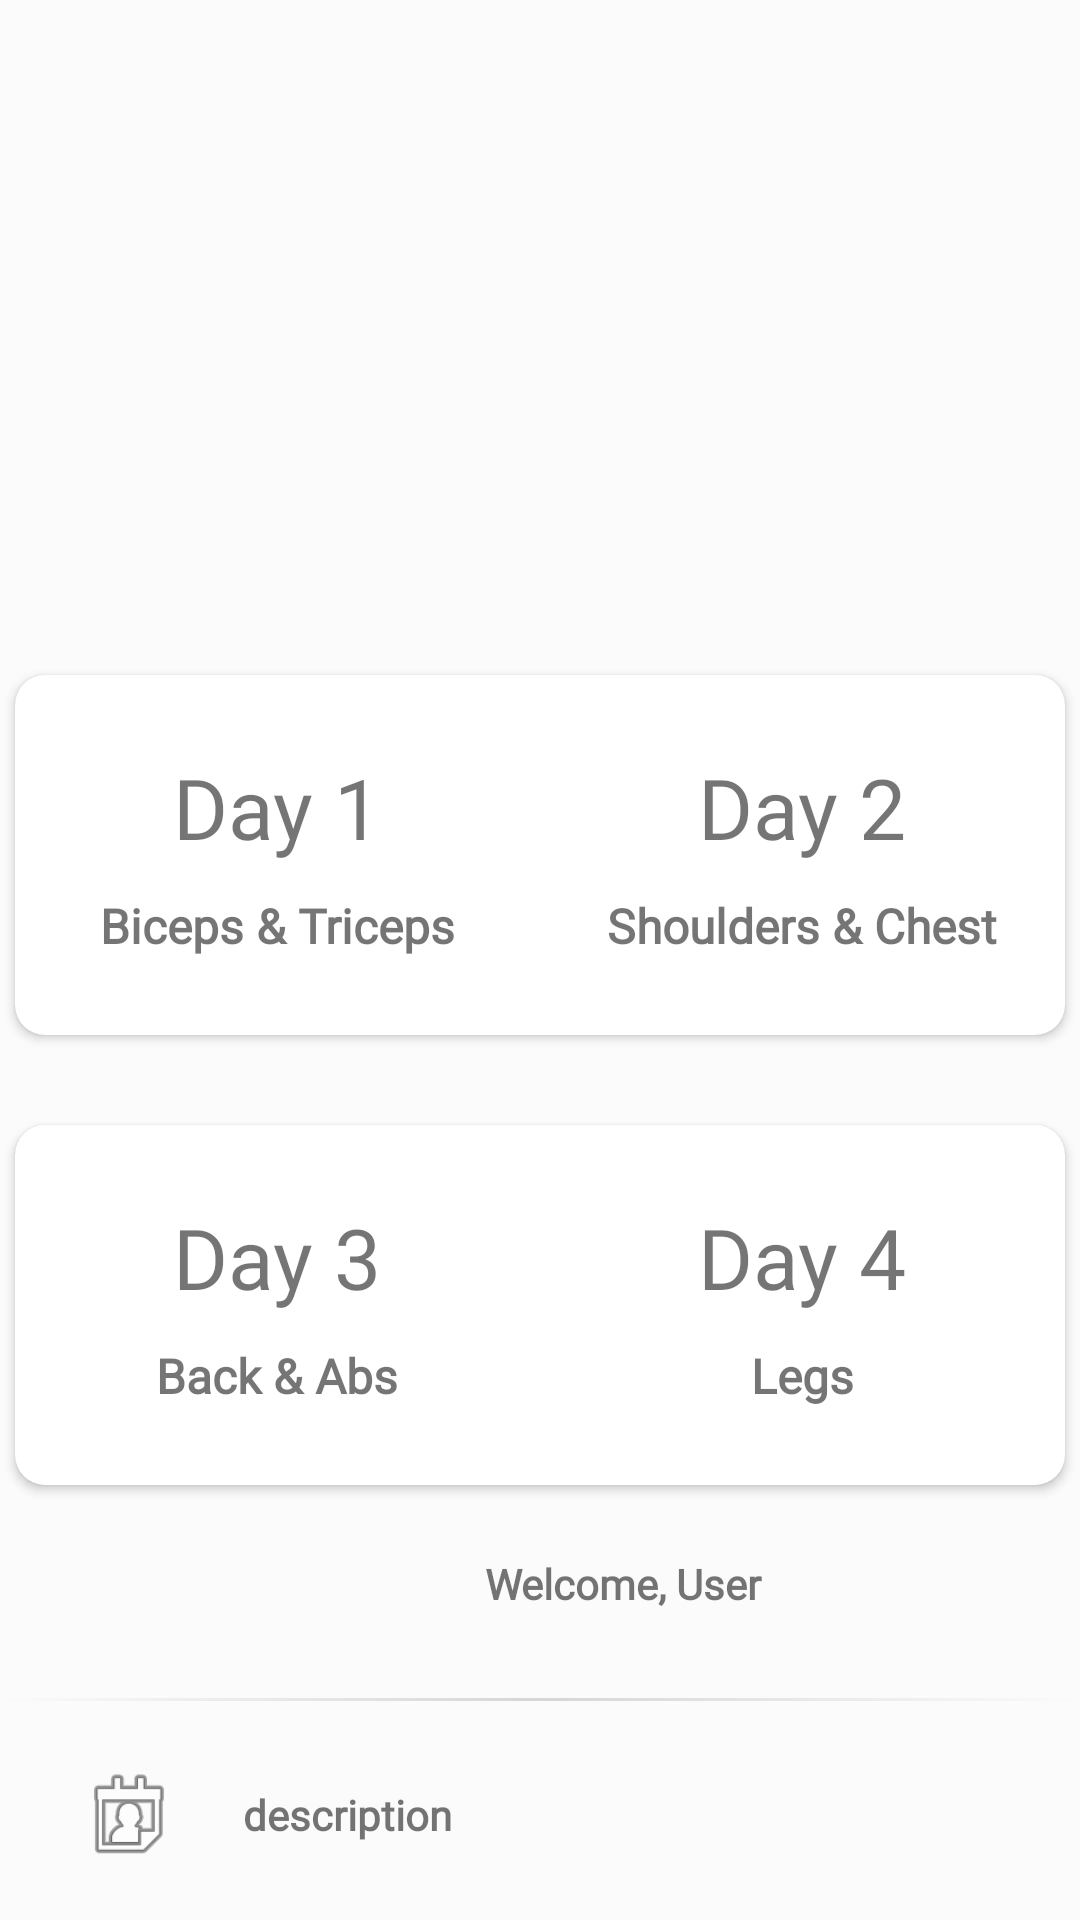

Point at icon controls on the screen. Image size 1080px x 1920px, points as point (x, y).
calendar: point (129, 1813)
